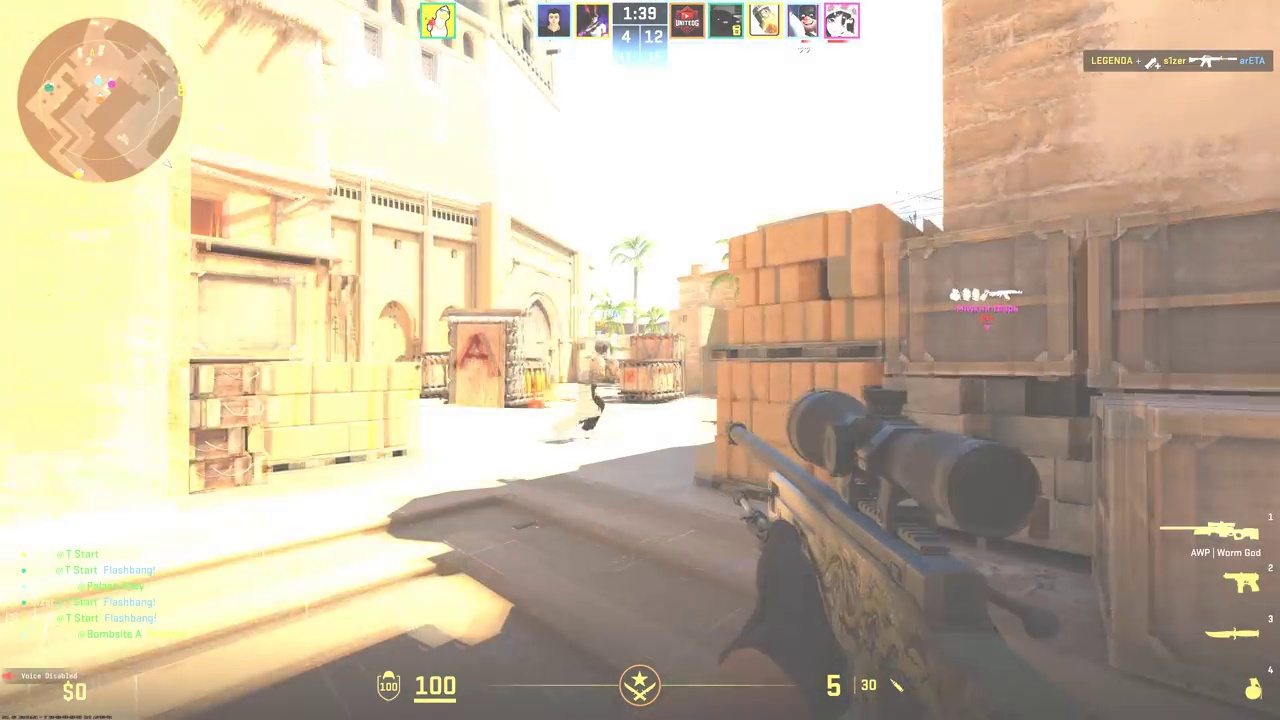Terrorist: (582, 344, 614, 429)
